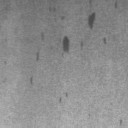red iron: (36, 0, 118, 61), (59, 92, 68, 102), (2, 61, 6, 83), (30, 77, 32, 84), (120, 120, 122, 126)
